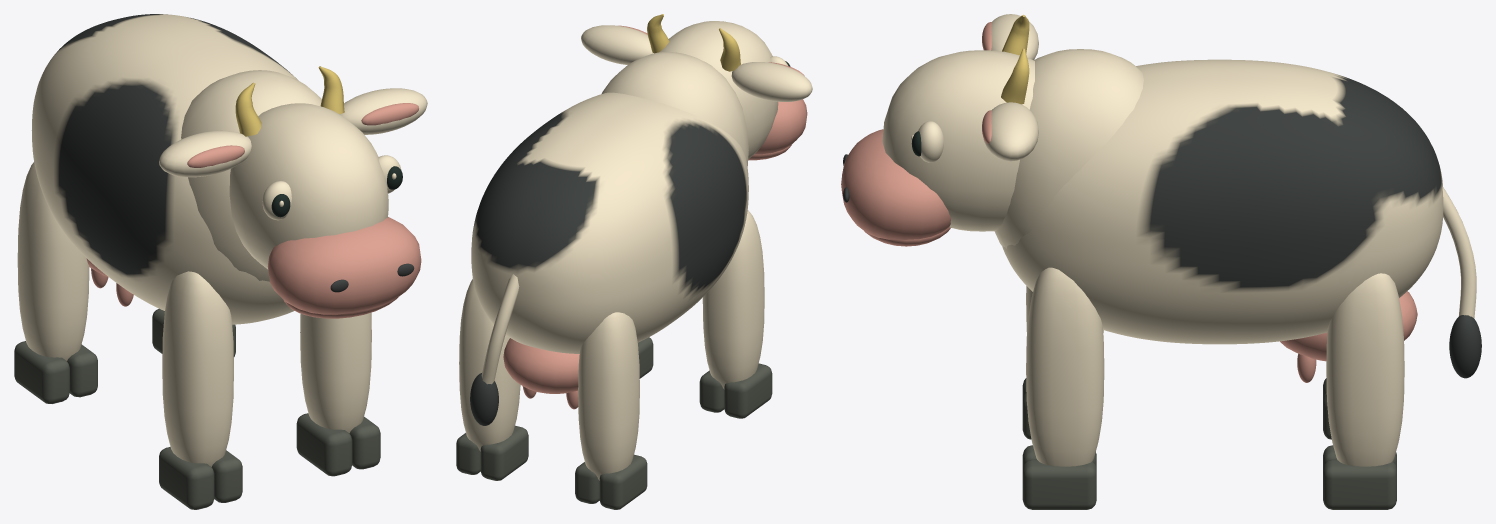
File: cow.glb
3 views of the same model, side by side, from view 1: azimuth 30°, elevation 25°; view 2: azimuth 150°, elevation 25°; view 3: azimuth 270°, elevation 25° (orthographic). The views are drawn at different scales.
Visible parts, largest first — view 1: CowBody, Head, Leg, Muzzle, Leg.001, Shoulder, Leg.002, Ear, ClovenHoof.004, ClovenHoof.002, ClovenHoof, Ear.001 (+10 smaller); view 2: CowBody, Leg.001, Leg, Shoulder, Leg.003, Head, Udder, Ear, Ear.001, ClovenHoof.002, ClovenHoof.006, ClovenHoof (+9 smaller); view 3: CowBody, Head, Shoulder, Leg.002, Leg.003, Muzzle, ClovenHoof.005, ClovenHoof.007, Ear.001, TailStem, TailTuft, Udder (+4 smaller).
Boxes of the visible parts, left/top/right/bottom form: CowBody: left=31, top=14, right=298, bottom=324; Head: left=229, top=103, right=388, bottom=269; Leg: left=162, top=271, right=233, bottom=466; Muzzle: left=267, top=217, right=421, bottom=314; Leg.001: left=17, top=162, right=89, bottom=360; Shoulder: left=181, top=70, right=321, bottom=281; Leg.002: left=300, top=312, right=371, bottom=433; Ear: left=159, top=130, right=251, bottom=177; ClovenHoof.004: left=296, top=413, right=352, bottom=476; ClovenHoof.002: left=14, top=341, right=69, bottom=403; ClovenHoof: left=159, top=447, right=214, bottom=509; Ear.001: left=339, top=88, right=427, bottom=134; CowBody: left=471, top=92, right=748, bottom=353; Leg.001: left=578, top=312, right=639, bottom=480; Leg: left=702, top=210, right=764, bottom=389; Shoulder: left=601, top=52, right=748, bottom=166; Leg.003: left=459, top=279, right=520, bottom=451; Head: left=660, top=21, right=778, bottom=159; Udder: left=503, top=338, right=579, bottom=393; Ear: left=731, top=62, right=812, bottom=101; Ear.001: left=581, top=25, right=653, bottom=64; ClovenHoof.002: left=599, top=454, right=647, bottom=509; ClovenHoof.006: left=480, top=425, right=528, bottom=480; ClovenHoof: left=724, top=363, right=772, bottom=418; CowBody: left=1002, top=59, right=1443, bottom=344; Head: left=882, top=50, right=1034, bottom=231; Shoulder: left=994, top=49, right=1143, bottom=248; Leg.002: left=1026, top=267, right=1104, bottom=466; Leg.003: left=1326, top=273, right=1404, bottom=466; Muzzle: left=841, top=129, right=950, bottom=239; ClovenHoof.005: left=1022, top=459, right=1096, bottom=509; ClovenHoof.007: left=1323, top=459, right=1396, bottom=509; Ear.001: left=983, top=102, right=1038, bottom=161; TailStem: left=1442, top=187, right=1476, bottom=318; TailTuft: left=1449, top=315, right=1481, bottom=378; Udder: left=1280, top=291, right=1417, bottom=361.
Bounding box in the file's own units: 1.46 × 2.19 × 2.95.
